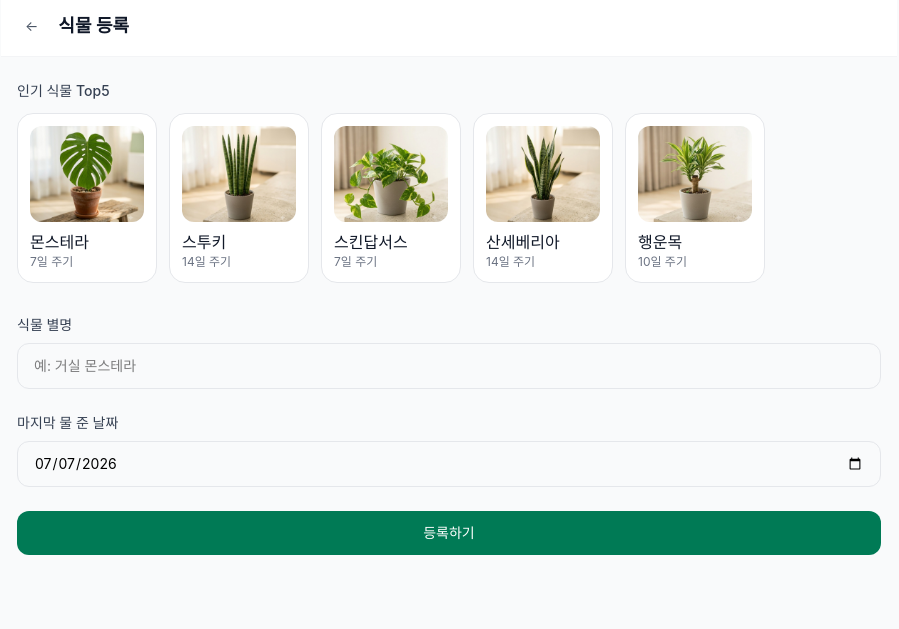
Test case: AddPlantPage › shows validation errors when submitting empty form
What coordinates should you click on to do the following:
click the button "등록하기"
I would click on:
 (449, 533)
Its box is [17,511,881,555].
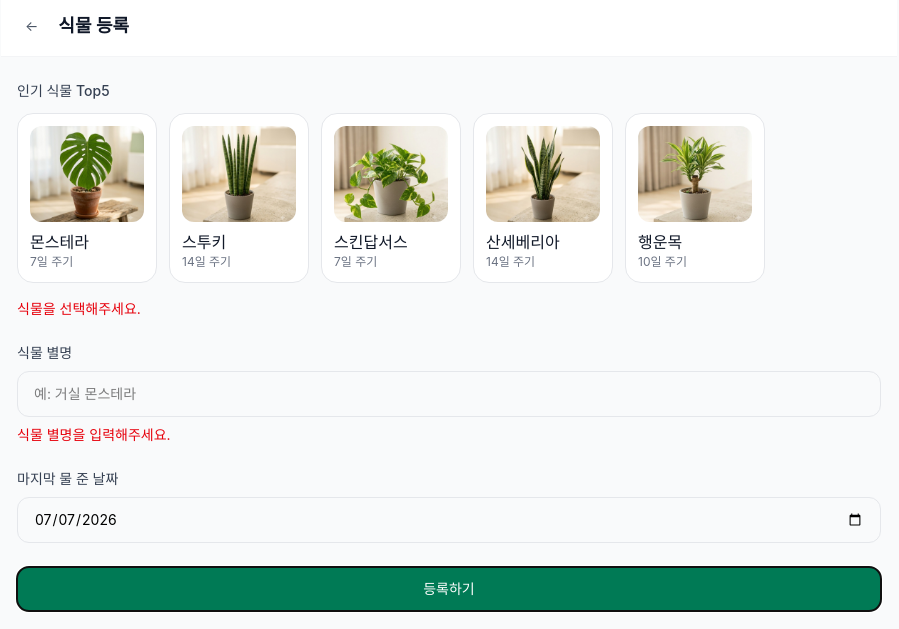
Result: the text "식물을 선택해주세요." is shown at [17,300,141,317]
Result: the text "식물 별명을 입력해주세요." is shown at [17,426,171,443]
